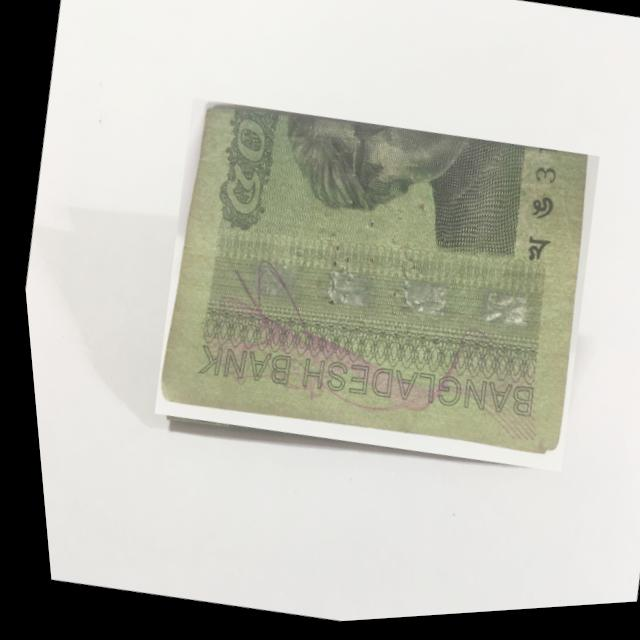Taka: (124, 80, 617, 500)
